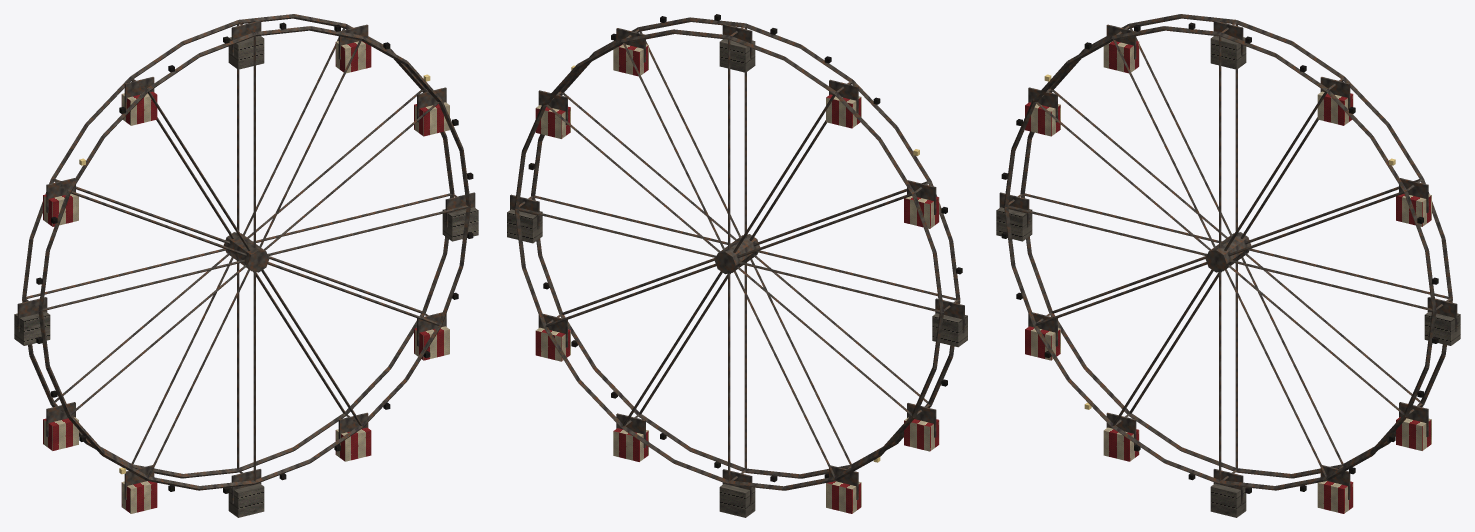
File: noria_rueda.obj
The picture shows the model from 3 angles, left to right: view 1: azimuth 30°, elevation 25°; view 2: azimuth 150°, elevation 25°; view 3: azimuth 330°, elevation 25°; orthographic projection.
Parts seen in each view (by area): view 1: noria_rueda; view 2: noria_rueda; view 3: noria_rueda.
Part boxes in pixels (box(x1,y1,x2,y2)): noria_rueda: box(14, 14, 478, 517); noria_rueda: box(507, 14, 967, 517); noria_rueda: box(996, 14, 1460, 517).
Size of the model in its own units: 19.2 by 19.55 by 1.8.
5 materials, 5 textured.
